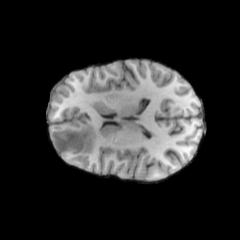glioma: (50, 123, 96, 155)
